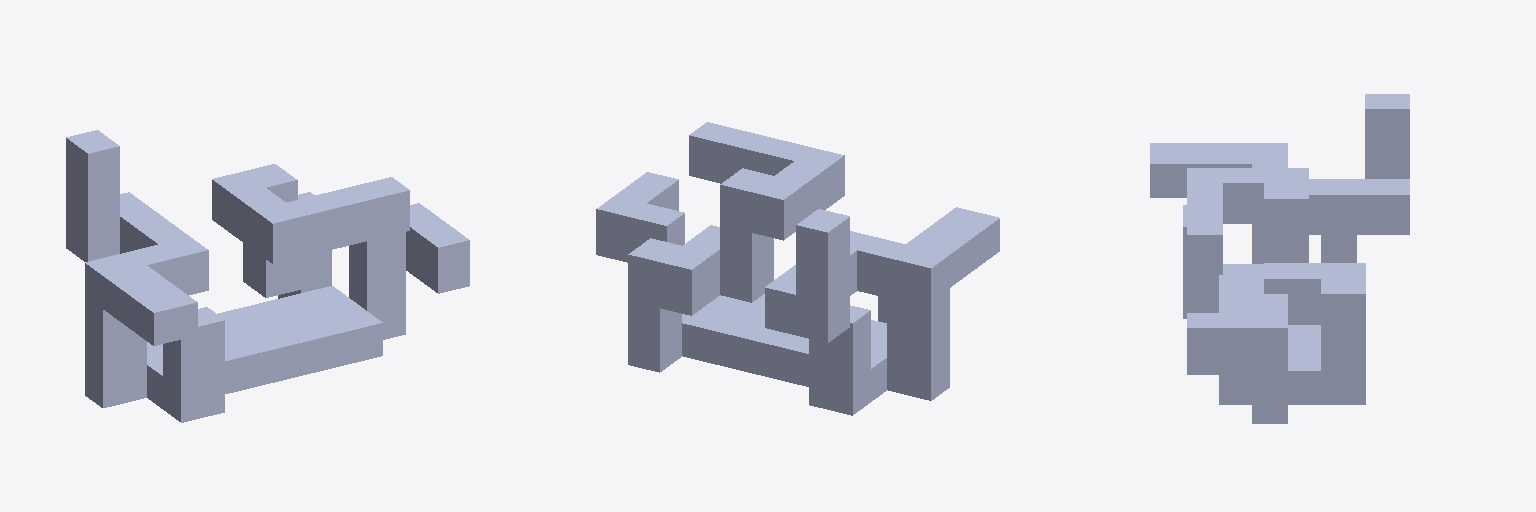
3 views of the same model, side by side, from view 1: azimuth 30°, elevation 25°; view 2: azimuth 150°, elevation 25°; view 3: azimuth 270°, elevation 25° (orthographic).
Visible parts, largest first — view 1: mesh_1_Long-10.001; view 2: mesh_1_Long-10.001; view 3: mesh_1_Long-10.001.
Boxes of the visible parts, <box> form: mesh_1_Long-10.001: <box>66,130,469,422</box>; mesh_1_Long-10.001: <box>596,122,999,415</box>; mesh_1_Long-10.001: <box>1150,94,1409,423</box>.
Size of the model in its own units: 0.19 by 0.11 by 0.128.